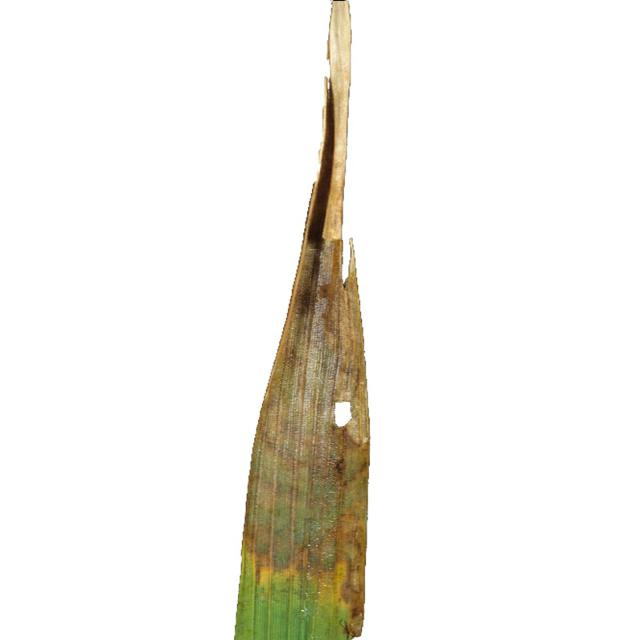Leaf scald: (180, 0, 510, 640)
